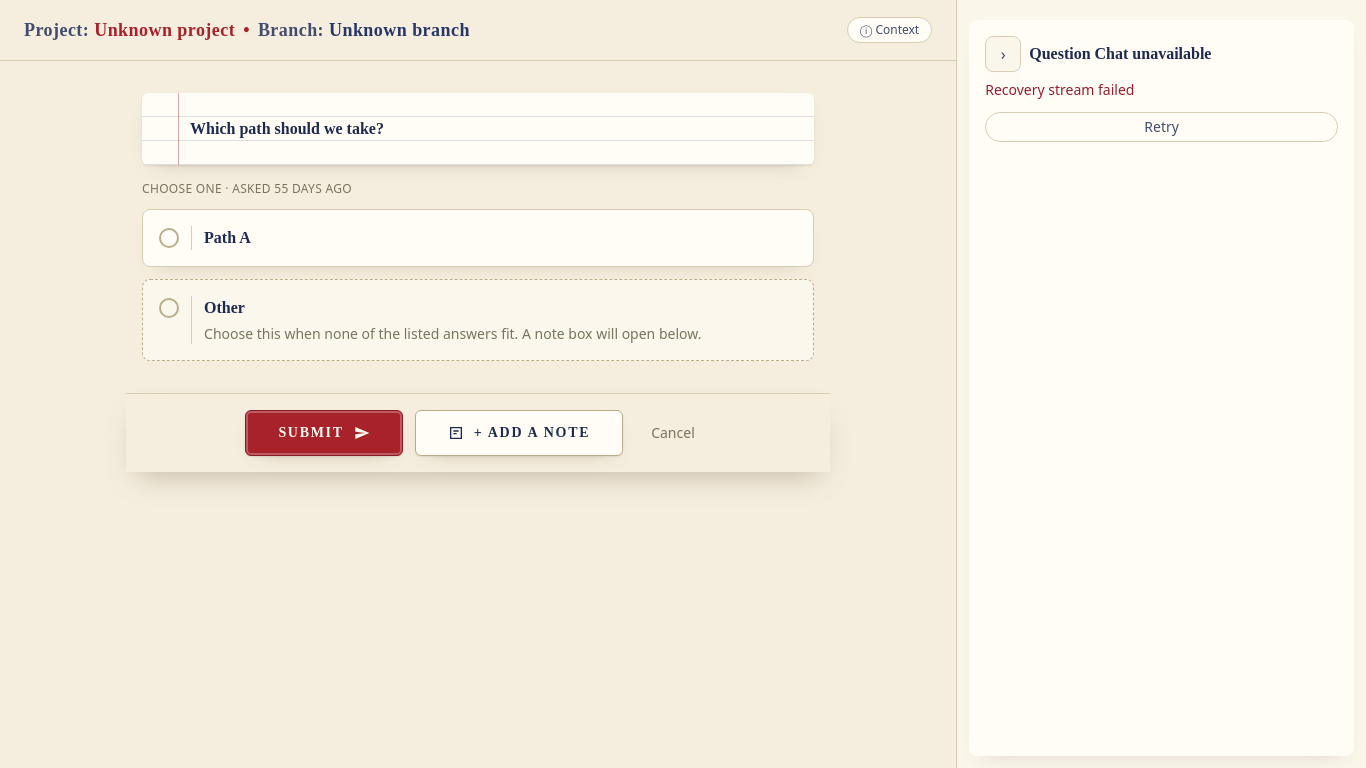
Test: responsive Question Chat workspace › closes a failed recovery stream and presents a coherent unavailable state
Expected: the message reads "Recovery stream failed", [985,80,1134,99]
Click the button named "Hide Question Chat": (1003, 54) [985,36,1021,72]
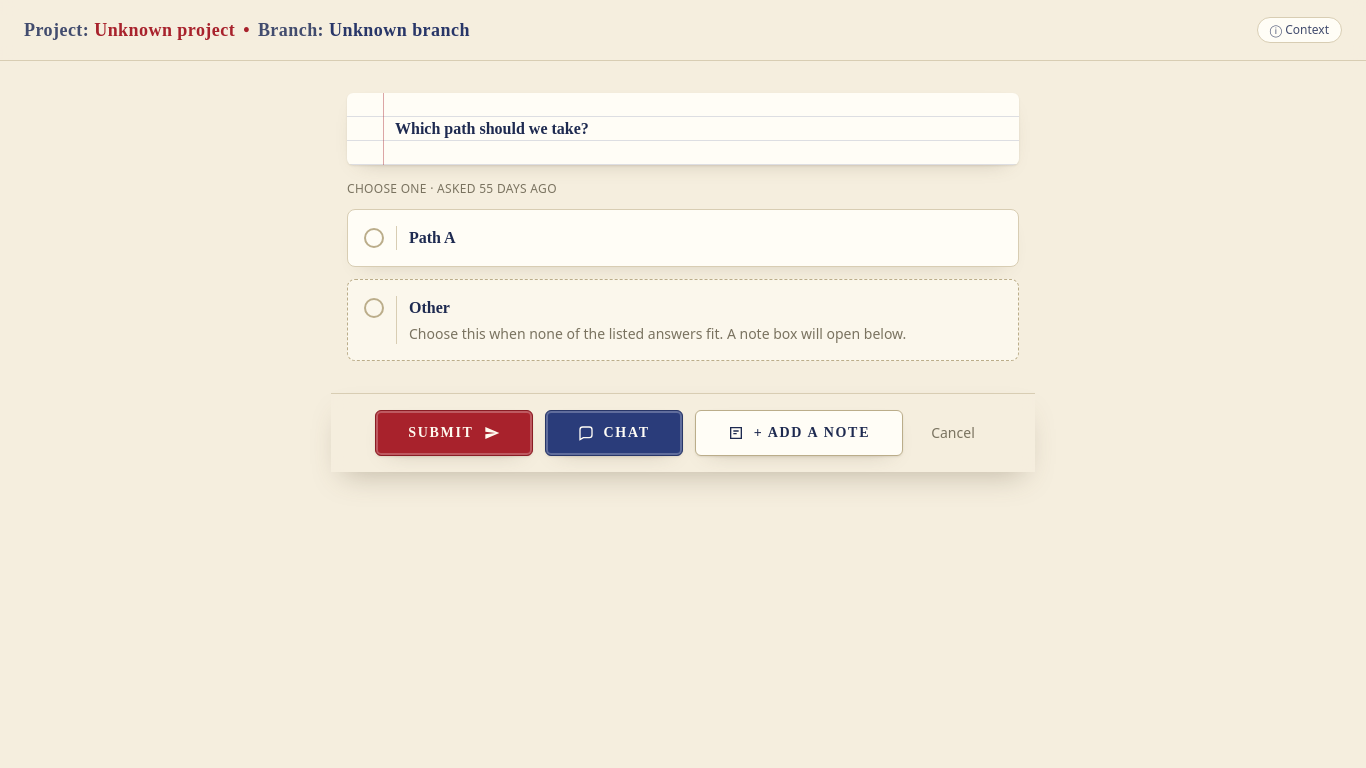
Click the button "Chat": (614, 433) [545,410,683,456]
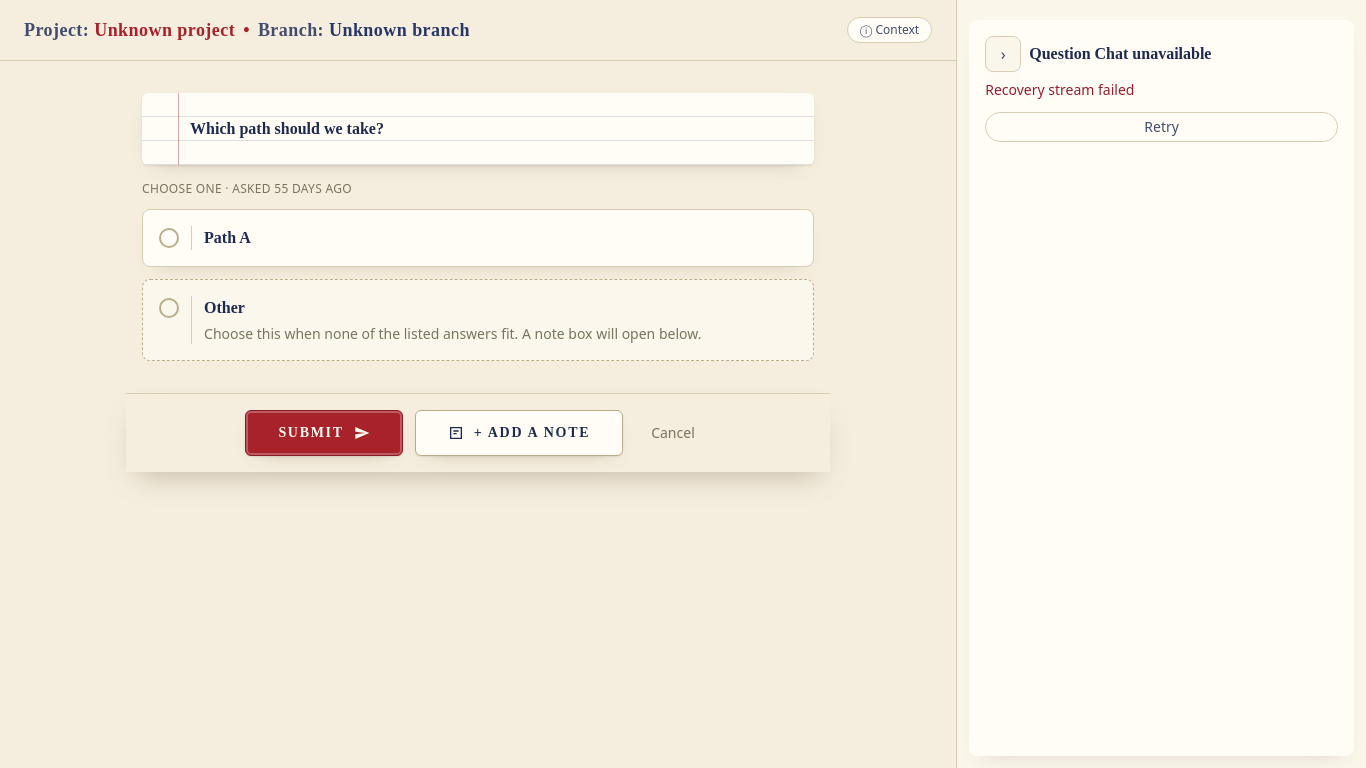
Result: the element named "Question Chat sidebar" is shown at [956,0,1365,767]
